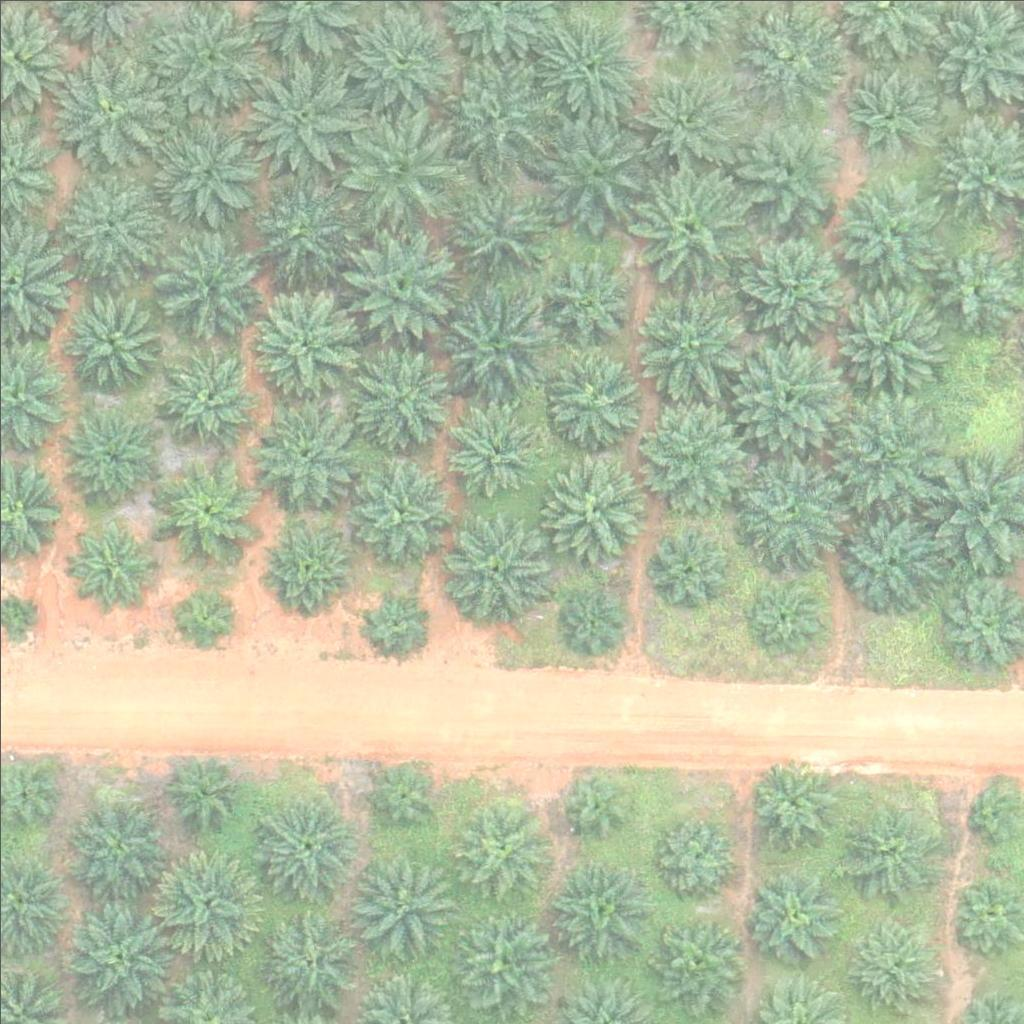Kelapa_Sawit: (821, 385, 946, 511), (727, 220, 852, 346), (626, 278, 751, 404), (627, 163, 752, 289), (531, 107, 656, 233), (435, 287, 560, 413), (436, 168, 561, 294), (436, 52, 561, 178), (335, 218, 460, 344), (337, 100, 462, 226), (240, 52, 365, 178), (239, 276, 364, 401), (49, 45, 174, 170), (827, 279, 940, 393), (61, 901, 174, 1014), (829, 175, 942, 288), (836, 57, 949, 170), (735, 109, 848, 222), (635, 398, 748, 511), (733, 341, 845, 455), (628, 62, 740, 176), (149, 840, 261, 953), (738, 457, 850, 570), (67, 795, 167, 896), (258, 904, 358, 1005), (254, 797, 354, 898), (351, 859, 451, 960), (450, 910, 550, 1011), (450, 798, 550, 899), (549, 856, 649, 957), (644, 912, 744, 1013), (543, 460, 643, 561), (544, 345, 644, 446), (441, 519, 541, 620), (447, 398, 547, 499), (350, 462, 450, 563), (350, 350, 450, 451), (255, 405, 355, 506), (247, 178, 347, 279), (153, 458, 253, 559), (158, 343, 258, 444), (157, 229, 257, 330), (153, 125, 253, 226), (61, 406, 161, 507), (59, 290, 159, 391), (62, 174, 162, 275), (743, 755, 843, 855), (837, 805, 937, 905), (842, 507, 942, 607), (537, 250, 637, 350), (538, 19, 638, 119), (650, 811, 738, 899), (930, 244, 1018, 332), (68, 519, 156, 607), (746, 871, 833, 959), (850, 928, 937, 1016), (257, 522, 344, 610), (746, 573, 821, 649), (557, 764, 632, 840), (649, 530, 724, 605), (165, 751, 240, 826), (361, 757, 436, 832), (560, 588, 623, 651), (361, 590, 423, 653), (175, 589, 237, 652)
